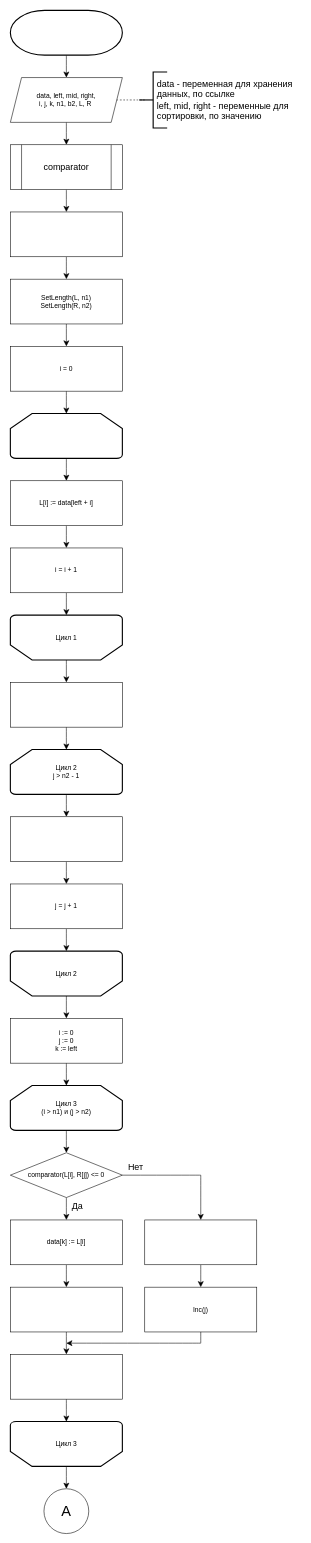
Image size: 311x1543. Some labels were removed from this diagram. The centre of each missing label's shape, as x and y in pixels:
"data[k] := R[j]" belongs at (x=200, y=1242).
"Inc(i)" belongs at (x=66, y=1309).
"Inc(k)" belongs at (x=66, y=1376).
"j = 0" belongs at (x=66, y=704).
"Merge Начало" belongs at (x=66, y=32).
"n1 := mid - left + 1 n2 := right - mid" belongs at (x=66, y=234).
"R[j] := data[mid + 1 + j]" belongs at (x=66, y=839).
"Цикл 1 i > n1 - 1" belongs at (x=66, y=436).
